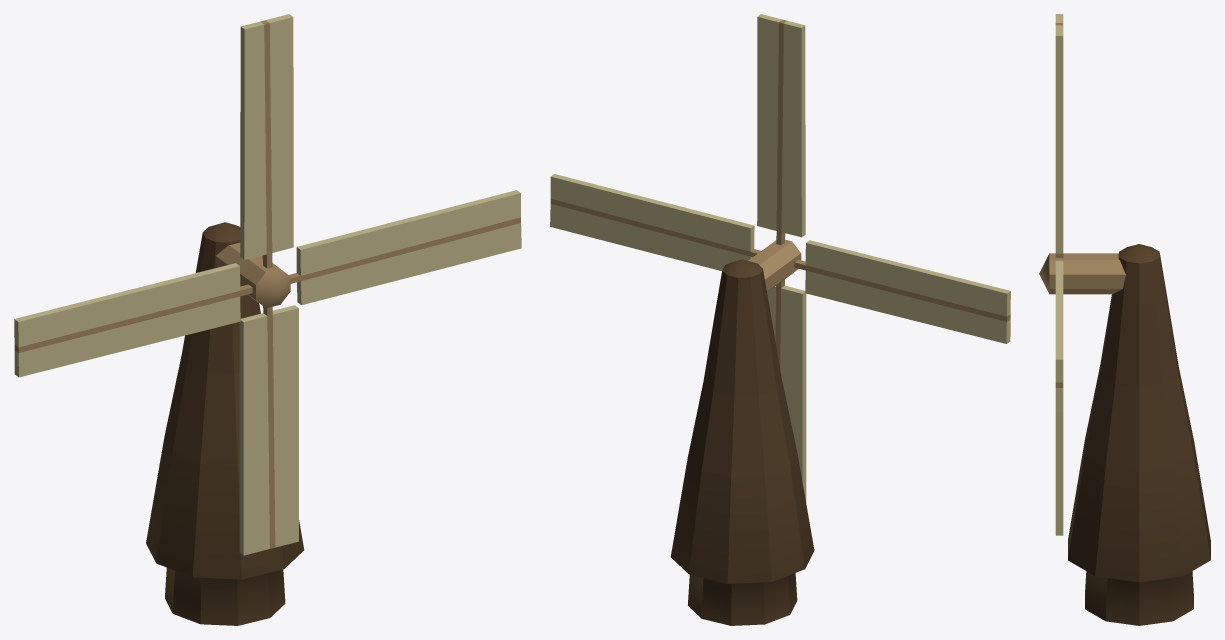
The model's file is gBWindMill_v03.fbx.
3 renders of one model, left to right at view 1: azimuth 30°, elevation 25°; view 2: azimuth 150°, elevation 25°; view 3: azimuth 270°, elevation 25°, orthographic. The views are drawn at different scales.
Parts seen in each view (by area): view 1: windMillBody_03, millFan_03, millFan_02, millFan_04, millFan_01, millTurner_01; view 2: windMillBody_03, millFan_02, millFan_04, millFan_01, millFan_03, millTurner_01; view 3: windMillBody_03, millTurner_01, millFan_01, millFan_04, millFan_03.
Part boxes in pixels (bbox=[...]): windMillBody_03: bbox=[146, 222, 304, 625]; millFan_03: bbox=[239, 305, 298, 555]; millFan_02: bbox=[14, 263, 240, 377]; millFan_04: bbox=[296, 190, 521, 305]; millFan_01: bbox=[240, 14, 293, 259]; millTurner_01: bbox=[215, 242, 300, 315]; windMillBody_03: bbox=[670, 259, 814, 625]; millFan_02: bbox=[805, 240, 1010, 343]; millFan_04: bbox=[550, 174, 754, 270]; millFan_01: bbox=[757, 14, 805, 237]; millFan_03: bbox=[767, 285, 806, 502]; millTurner_01: bbox=[748, 231, 805, 291]; windMillBody_03: bbox=[1068, 244, 1210, 625]; millTurner_01: bbox=[1039, 253, 1126, 294]; millFan_01: bbox=[1055, 14, 1063, 253]; millFan_04: bbox=[1055, 261, 1063, 412]; millFan_03: bbox=[1055, 412, 1063, 535].
Size of the model in its own units: 1935 by 2242 by 605.
